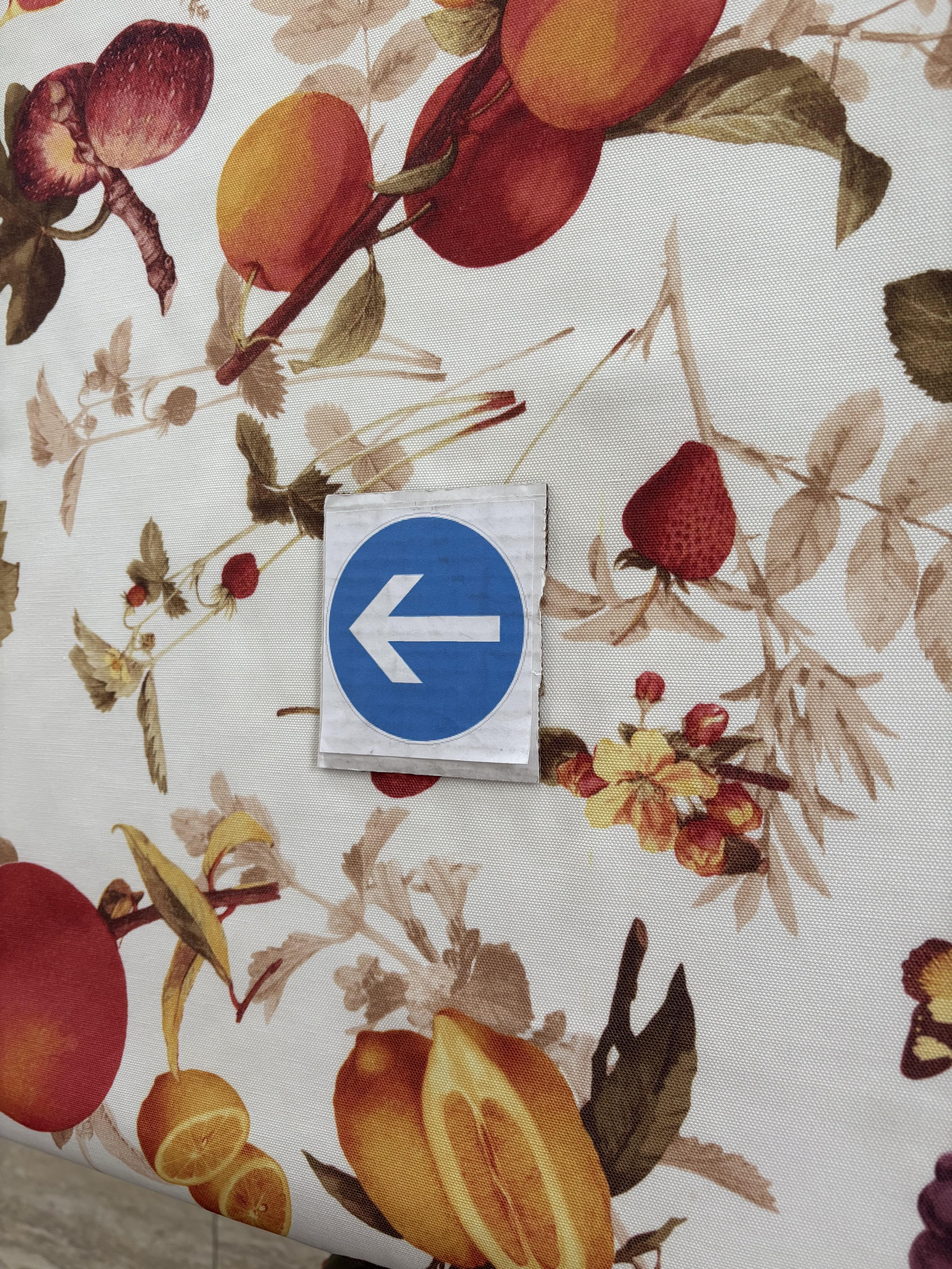Proceed Left: (327, 502, 540, 763)
